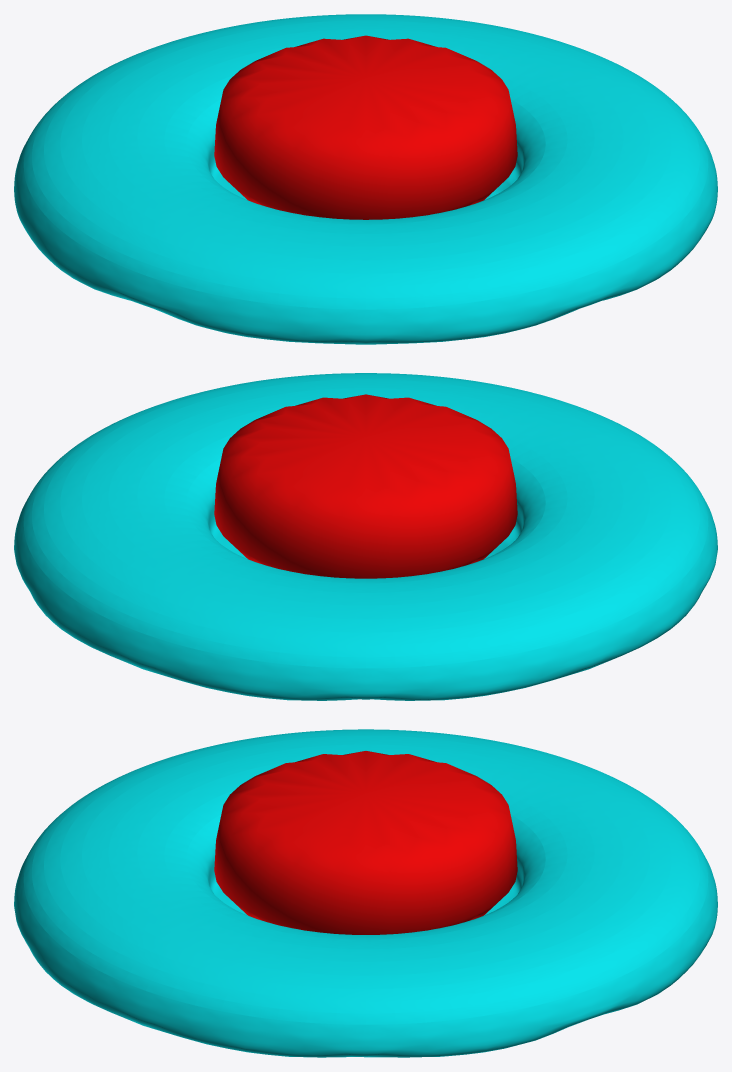
Rendered from Lichtknop_smooth.fbx.
The picture shows the model from 3 angles, top to bottom: view 1: azimuth 30°, elevation 25°; view 2: azimuth 150°, elevation 25°; view 3: azimuth 270°, elevation 25°; orthographic projection.
Parts seen in each view (by area): view 1: lichtding, knop; view 2: lichtding, knop; view 3: lichtding, knop.
Boxes of the visible parts, x1,y1,x2,y2 form: lichtding: (14, 14, 717, 344); knop: (214, 35, 517, 219); lichtding: (14, 373, 717, 700); knop: (214, 394, 517, 578); lichtding: (14, 729, 717, 1057); knop: (214, 751, 517, 934).
Size of the model in its own units: 0.1971 by 0.0377 by 0.1967.
